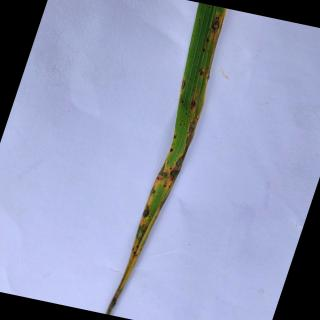Blast: (185, 116, 201, 146), (134, 221, 150, 242), (210, 14, 223, 36), (176, 146, 189, 167), (155, 163, 168, 181), (169, 168, 180, 182), (190, 96, 197, 112), (142, 207, 150, 220), (181, 78, 187, 93), (198, 66, 205, 78), (148, 186, 156, 196), (172, 134, 178, 140), (169, 147, 174, 153), (206, 36, 210, 43), (180, 100, 184, 104)
